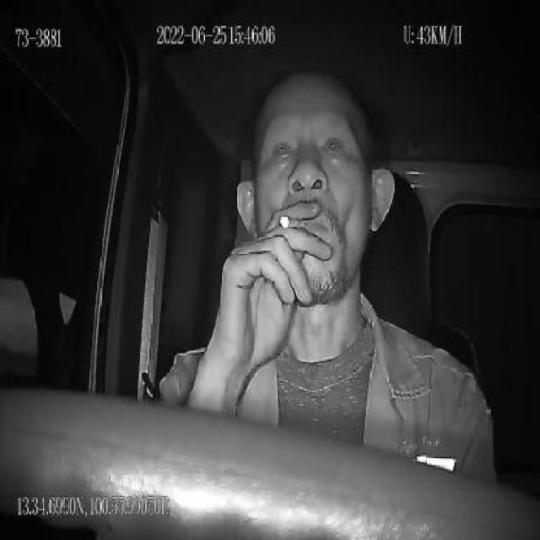smoking: (278, 213, 306, 231)
